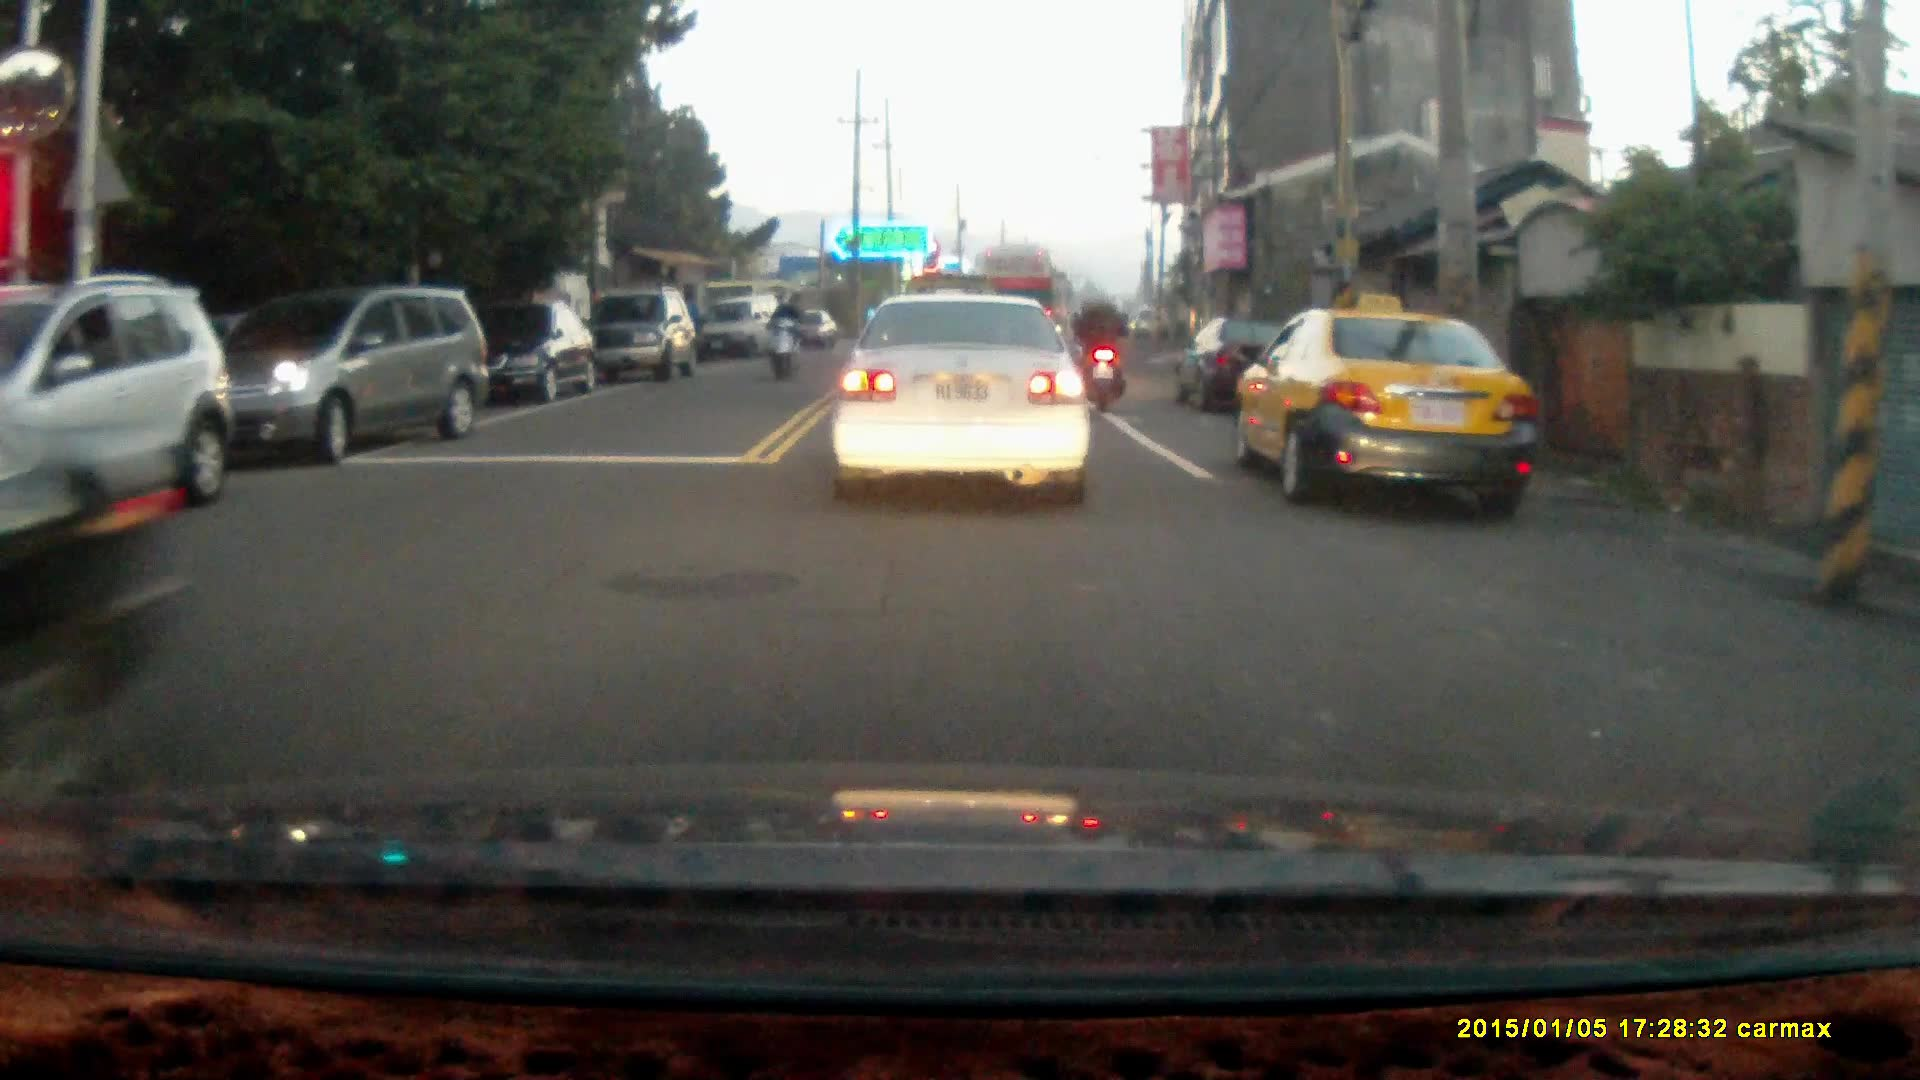rider: (1072, 284, 1131, 414), (764, 285, 799, 377)
vehicle: (1, 322, 202, 796), (1239, 304, 1541, 524), (1, 263, 241, 527), (830, 286, 1106, 500), (194, 280, 487, 462), (467, 296, 599, 404), (588, 280, 697, 376), (705, 287, 786, 358)
